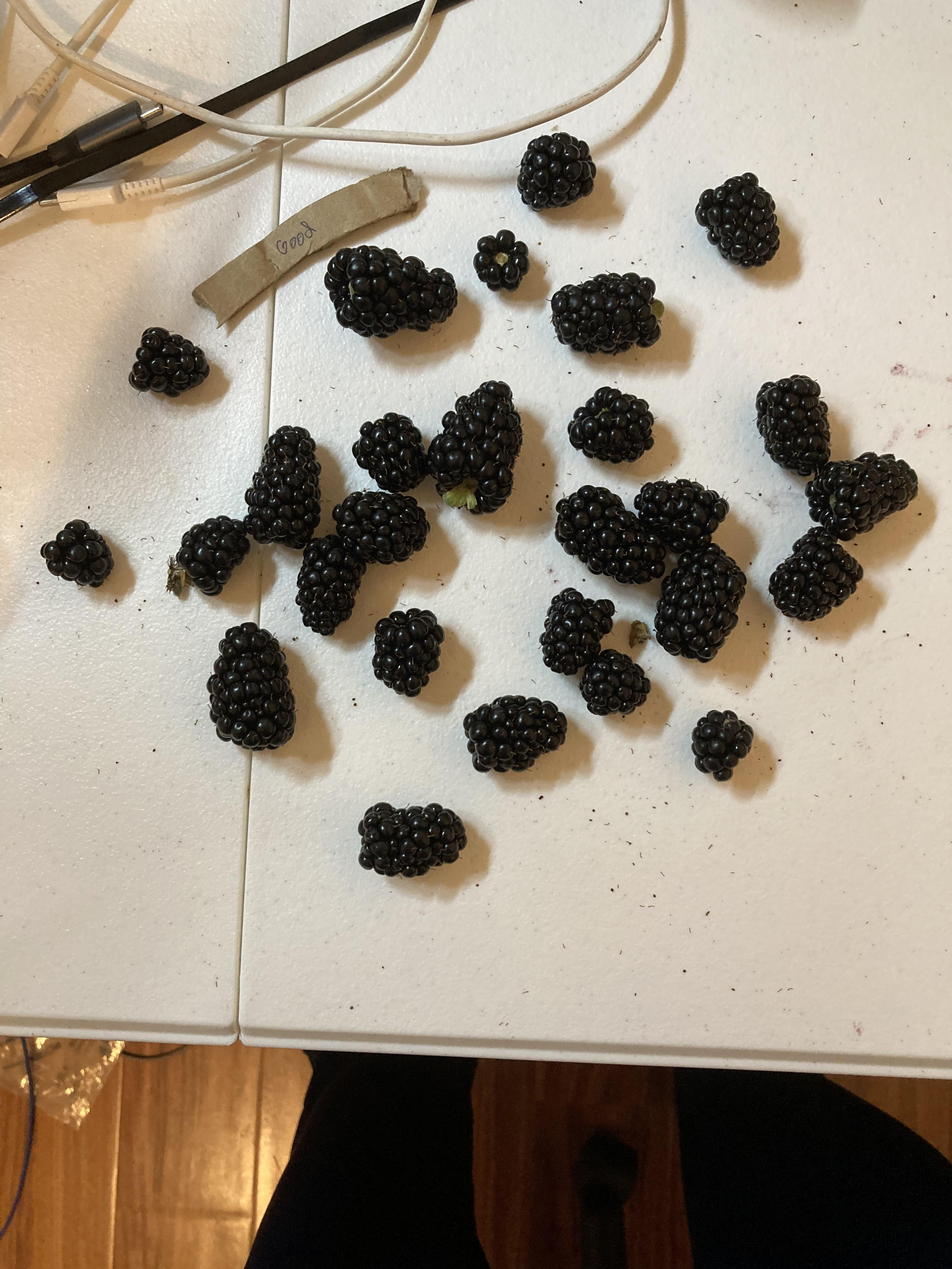berry: (325, 245, 457, 338), (430, 380, 519, 507), (211, 624, 293, 743), (655, 545, 741, 656), (805, 454, 916, 535), (247, 426, 318, 545), (552, 274, 655, 353), (558, 488, 645, 581), (770, 531, 858, 616), (697, 174, 776, 266), (333, 491, 429, 564), (465, 696, 563, 767), (361, 805, 464, 872), (758, 377, 828, 473), (540, 588, 614, 675), (636, 480, 724, 551), (298, 529, 360, 629), (571, 388, 651, 458), (375, 608, 440, 694), (174, 517, 247, 591), (520, 133, 593, 204), (354, 414, 424, 488), (131, 329, 206, 392), (581, 648, 647, 711), (44, 521, 110, 581), (693, 710, 751, 775), (476, 232, 526, 289)
